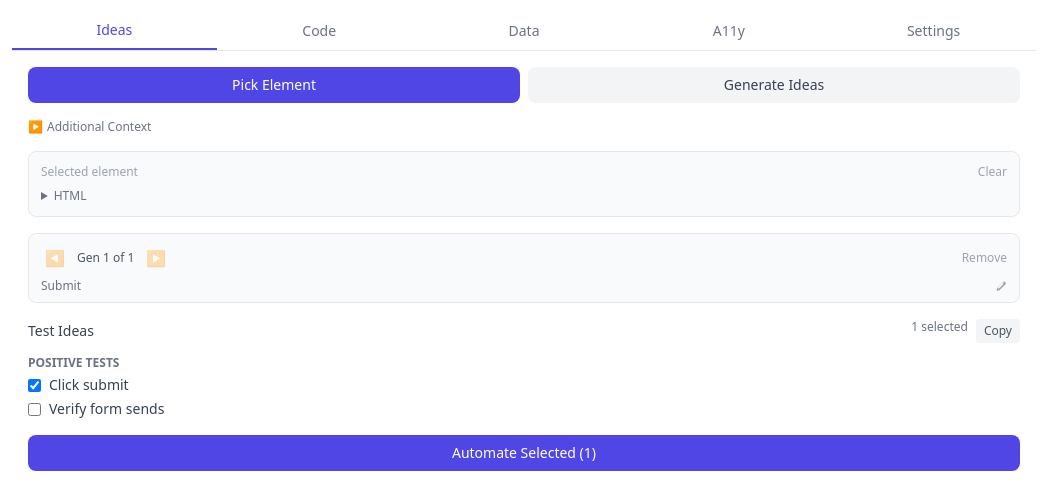
Test: App › Automate Selected on Ideas tab switches to Code tab
What coordinates should you click on to do the following:
click the button "Automate Selected (1)"
I would click on:
 (524, 453)
Its box is [28, 435, 1020, 471].
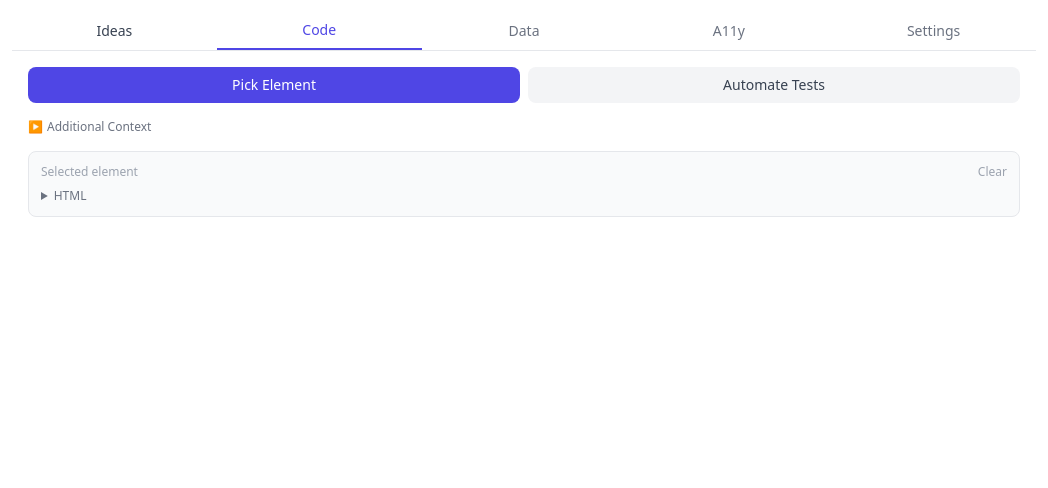
Now the button "Automate Tests" is shown, box [528, 67, 1020, 103]
